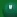green: (0, 0, 17, 17)
